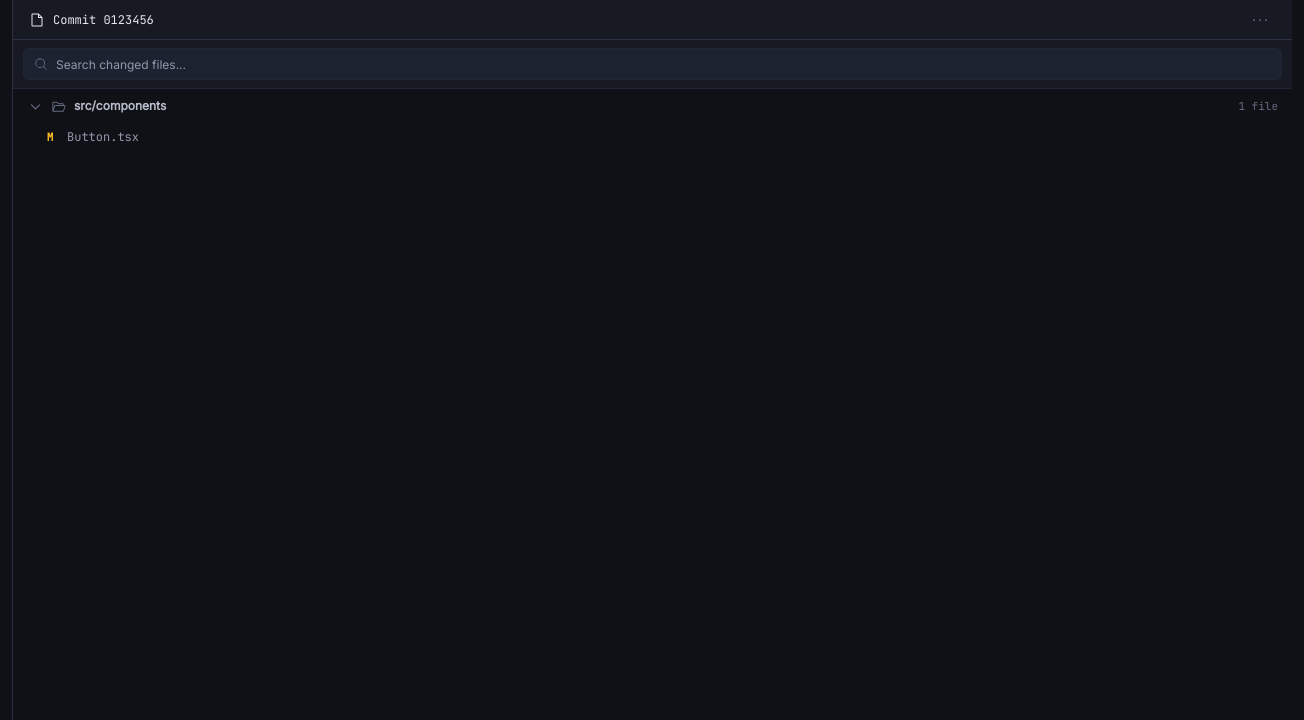
DiffPanel commit file tree › shows an empty state when no commit files match the search
Type "missing" into the field labelled "Search changed files..." at (664, 64), box [56,56,1271,72]
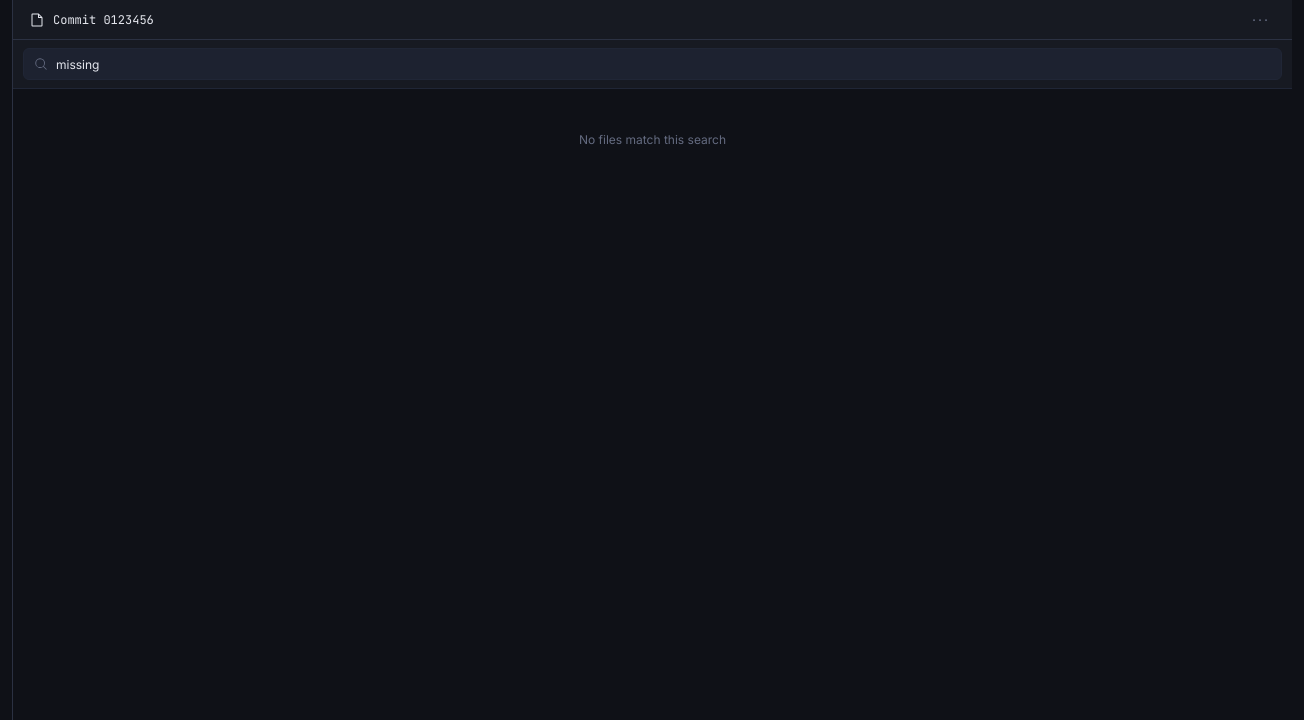
Result: the text "No files match this search" is shown at [579,132,726,147]
Result: the button "Button.tsx" is gone
